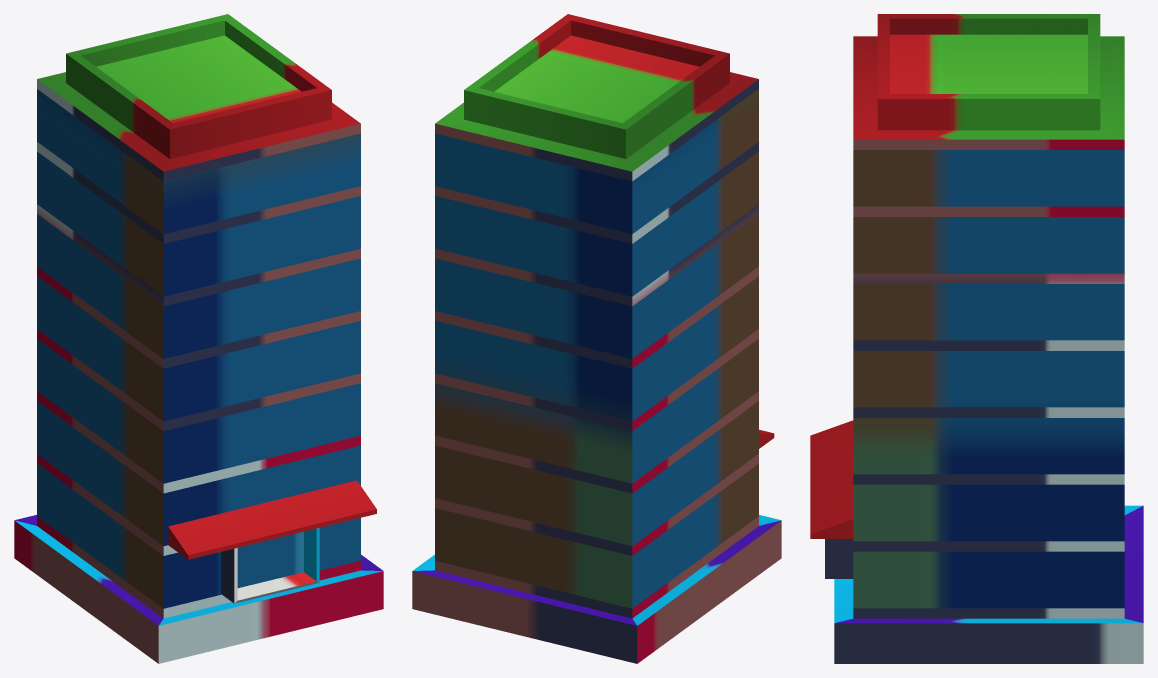
The model's file is Building4.fbx.
3 views of the same model, side by side, from view 1: azimuth 30°, elevation 25°; view 2: azimuth 150°, elevation 25°; view 3: azimuth 270°, elevation 25° (orthographic). The views are drawn at different scales.
Parts seen in each view (by area): view 1: Building4; view 2: Building4; view 3: Building4.
Boxes of the visible parts, x1,y1,x2,y2 form: Building4: (14,14,383,663); Building4: (412,14,781,663); Building4: (810,14,1143,663).
Size of the model in its own units: 187 by 406 by 223.
